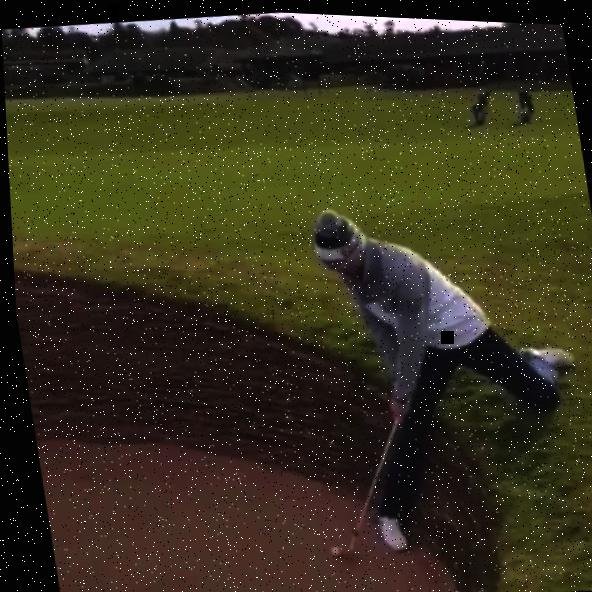ClubHead: (332, 544, 346, 556)
GolfBall: (323, 540, 337, 556)
